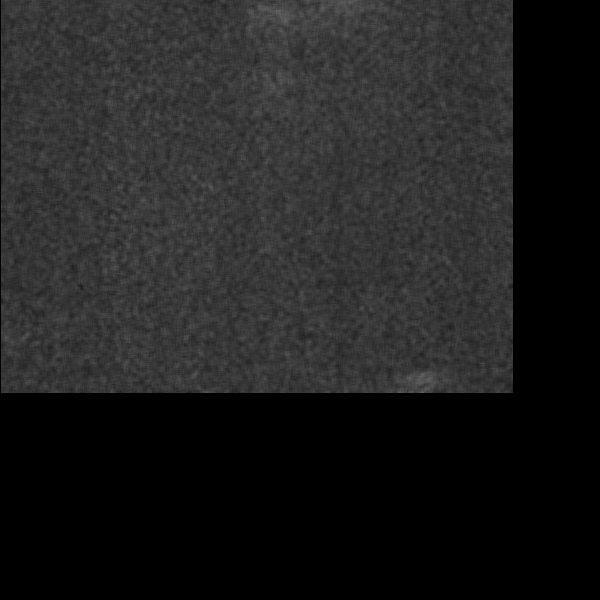spark: (387, 365, 443, 386), (264, 1, 296, 29)
